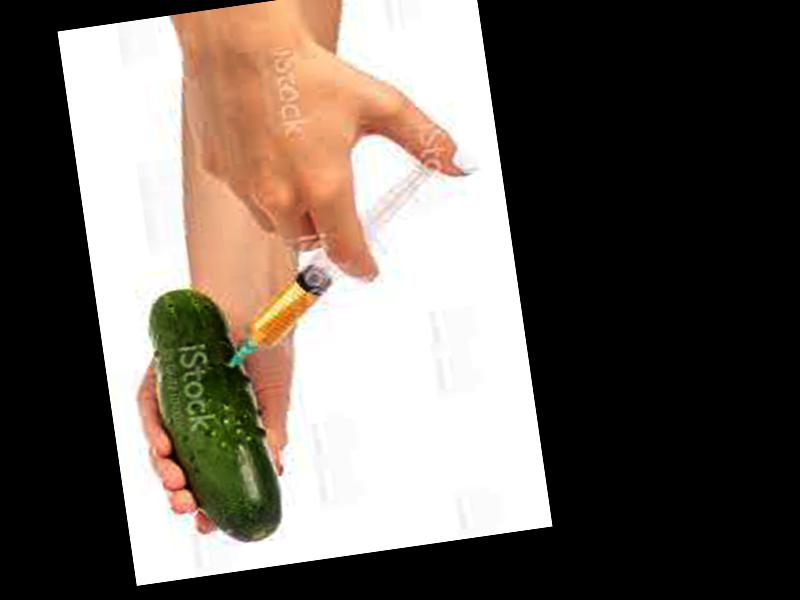Cucumber: (149, 280, 285, 553)
